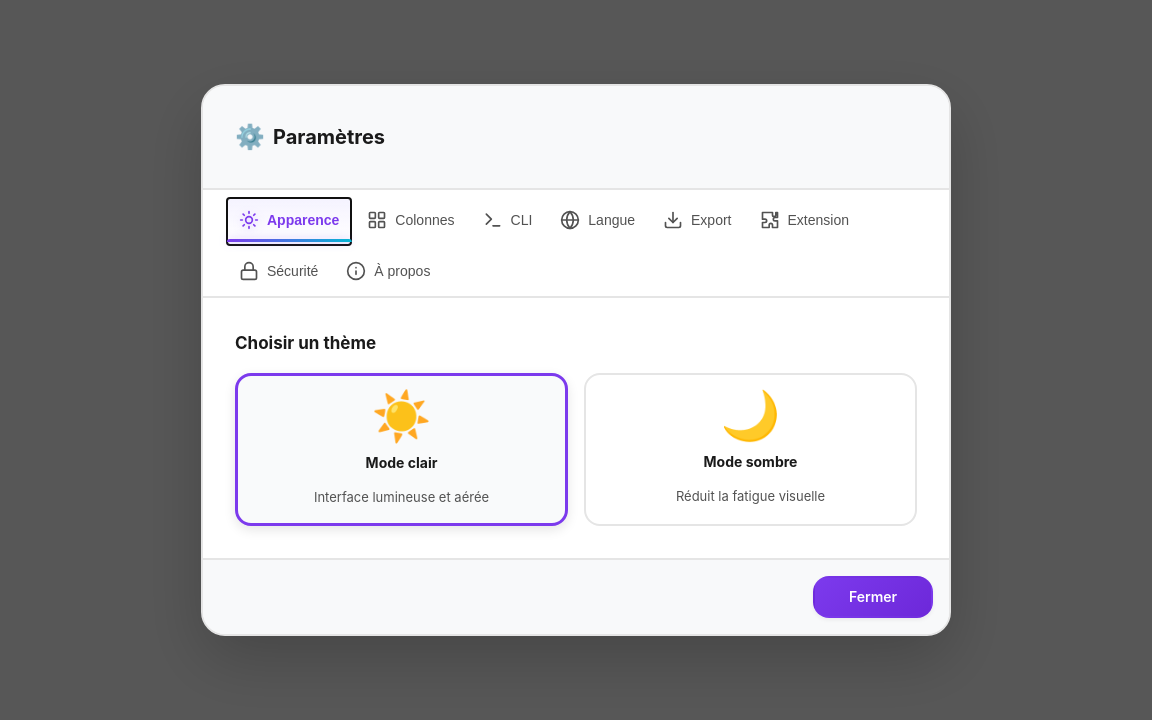
Test case: UI-35 : coffre d'export et coffre d'import reliés à leur libellé ; format en radiogroup nommé
Step 1. Click the tab "Export" → (697, 222), box [651,198,744,245]
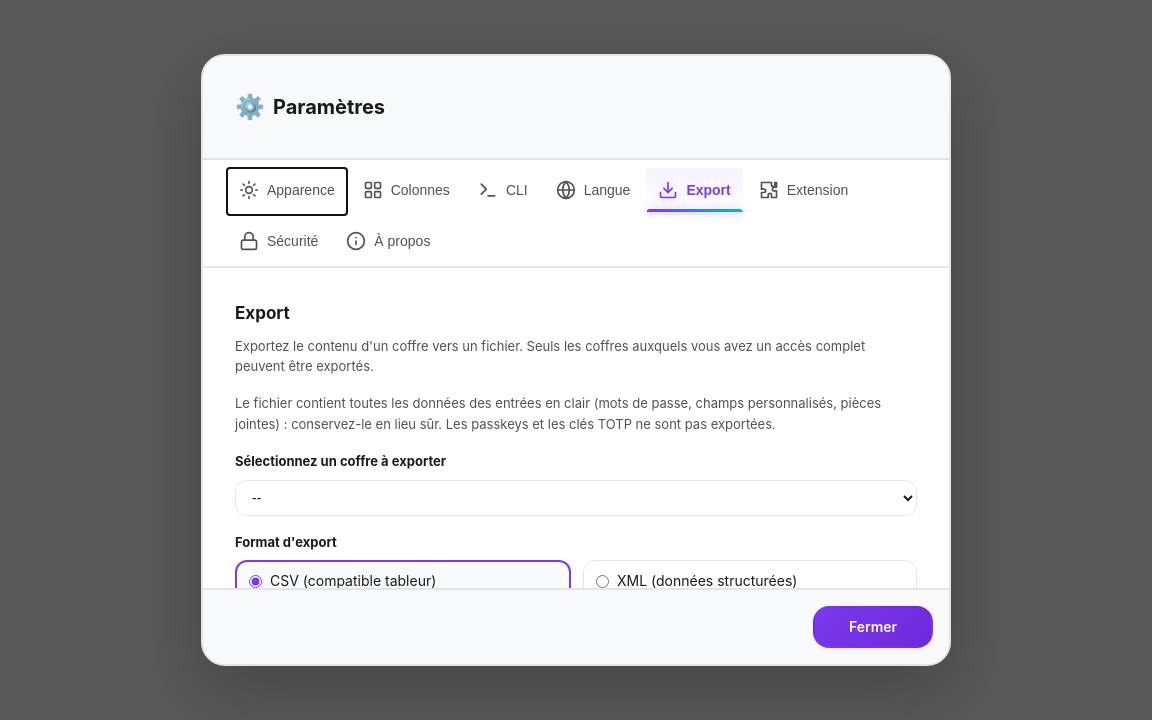
Now the label "Format d'export" is shown, box [235,534,337,550]
Now the number of radio buttons named "exportFormat" is 2, box [249,575,262,588]; [596,575,609,588]
